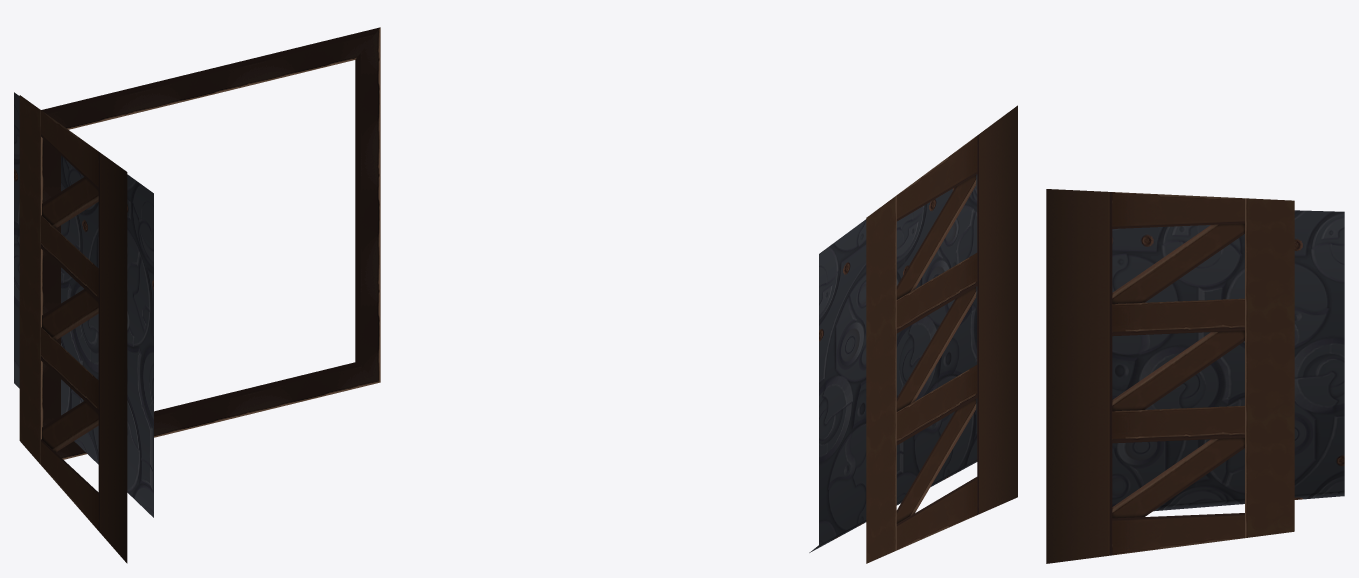
The model's file is understructure_x7.glb.
3 views of the same model, side by side, from view 1: azimuth 30°, elevation 25°; view 2: azimuth 150°, elevation 25°; view 3: azimuth 270°, elevation 25° (orthographic). The views are drawn at different scales.
Parts seen in each view (by area): view 1: clockworks.understructure_x7-MeshNodes["understructure_7w"], clockworks.understructure_x7-MeshNodes["understructure_7w_in; view 2: clockworks.understructure_x7-MeshNodes["understructure_7w"], clockworks.understructure_x7-MeshNodes["understructure_7w_in; view 3: clockworks.understructure_x7-MeshNodes["understructure_7w"], clockworks.understructure_x7-MeshNodes["understructure_7w_in.
Part boxes in pixels (x1,y1,x2,y2): clockworks.understructure_x7-MeshNodes["understructure_7w"]: (19,27,380,563); clockworks.understructure_x7-MeshNodes["understructure_7w_in: (14,92,153,517); clockworks.understructure_x7-MeshNodes["understructure_7w"]: (866,105,1017,563); clockworks.understructure_x7-MeshNodes["understructure_7w_in: (809,174,977,552); clockworks.understructure_x7-MeshNodes["understructure_7w"]: (1046,189,1294,563); clockworks.understructure_x7-MeshNodes["understructure_7w_in: (1112,210,1344,511).
Bounding box in the file's own units: 7 × 7 × 5.05.
Materials: 2 (2 with a texture image).
